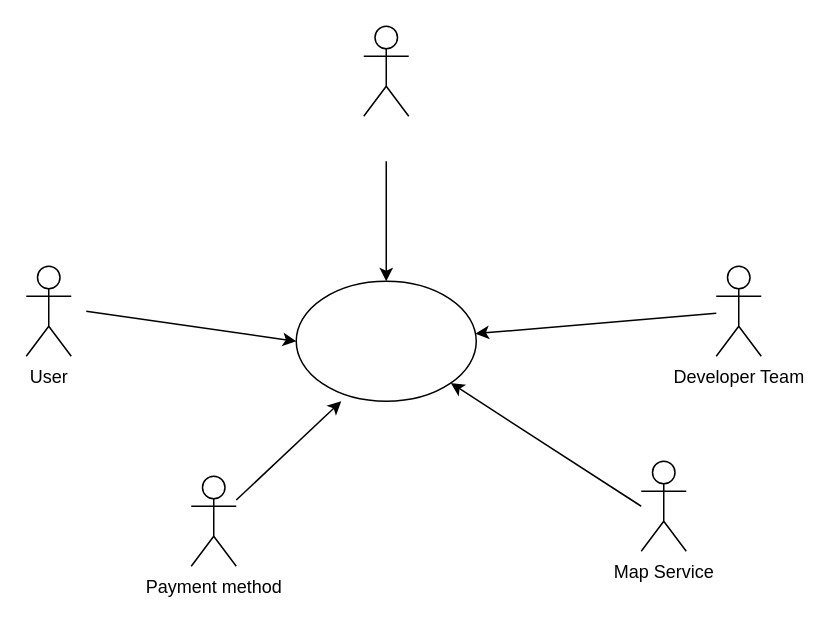
Some shapes in this 830 by 624 pixel diagram are drawn without their labels. The centre of each missing label's shape, as x and y in pixels:
Exchange rate tracker: the point at 385,70
EZWallet: the point at 385,340
